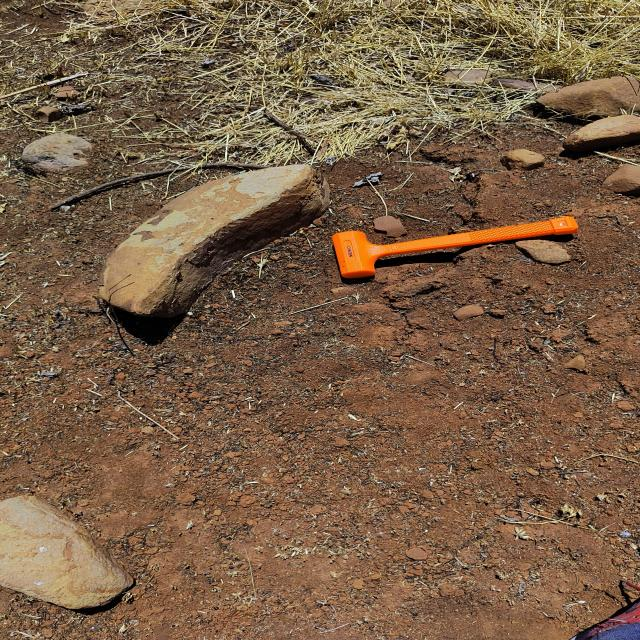Orange_hammer: (330, 215, 579, 280)
